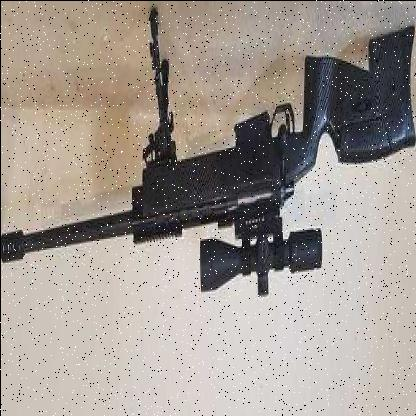rifle: (1, 7, 416, 309)
